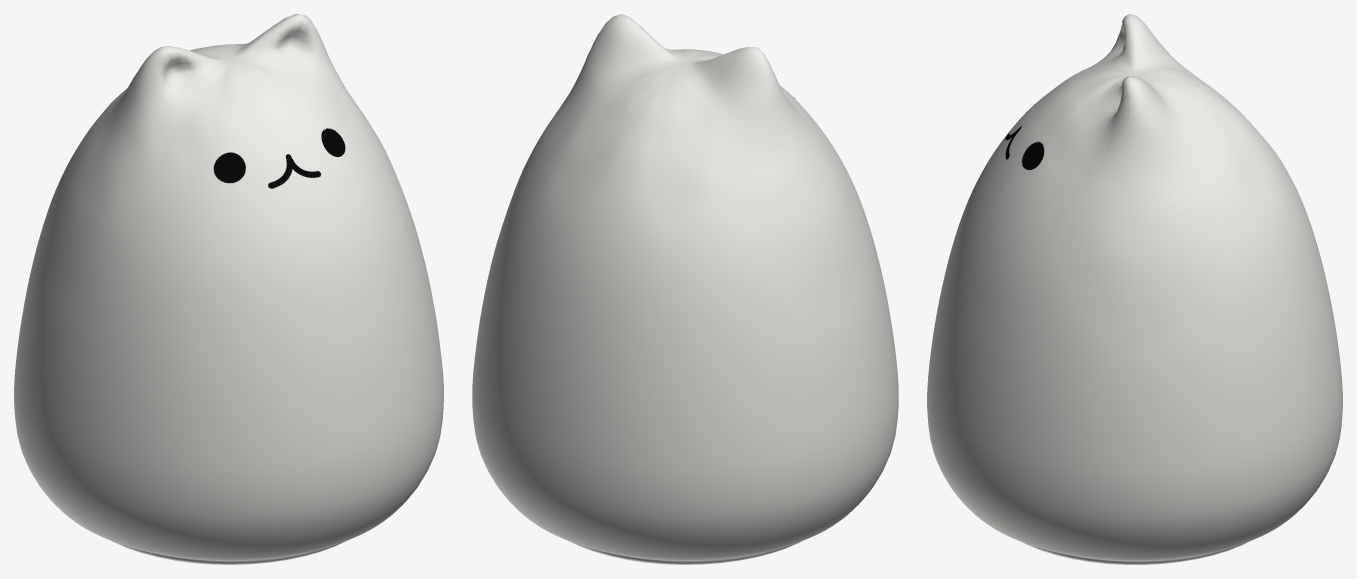
Rendered from cat-transformed.glb.
The picture shows the model from 3 angles, left to right: view 1: azimuth 30°, elevation 25°; view 2: azimuth 150°, elevation 25°; view 3: azimuth 270°, elevation 25°; orthographic projection. The views are drawn at different scales.
Parts seen in each view (by area): view 1: Body, Base; view 2: Body, Base; view 3: Body, Base.
Part boxes in pixels (bbox=[...]): Body: bbox=[14, 14, 443, 560]; Base: bbox=[112, 541, 346, 564]; Body: bbox=[472, 14, 898, 560]; Base: bbox=[568, 541, 801, 564]; Body: bbox=[927, 14, 1342, 561]; Base: bbox=[1022, 542, 1247, 564].
Size of the model in its own units: 3.95 by 4.83 by 3.95.
Materials: 4 (3 with a texture image).
